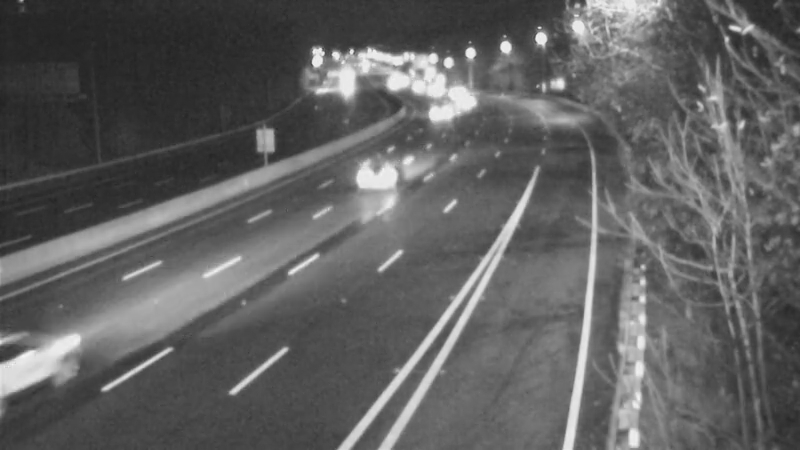vehicle: (1, 304, 98, 414), (341, 138, 421, 218), (412, 64, 462, 114), (428, 68, 478, 118), (440, 78, 490, 128), (417, 86, 467, 136)
